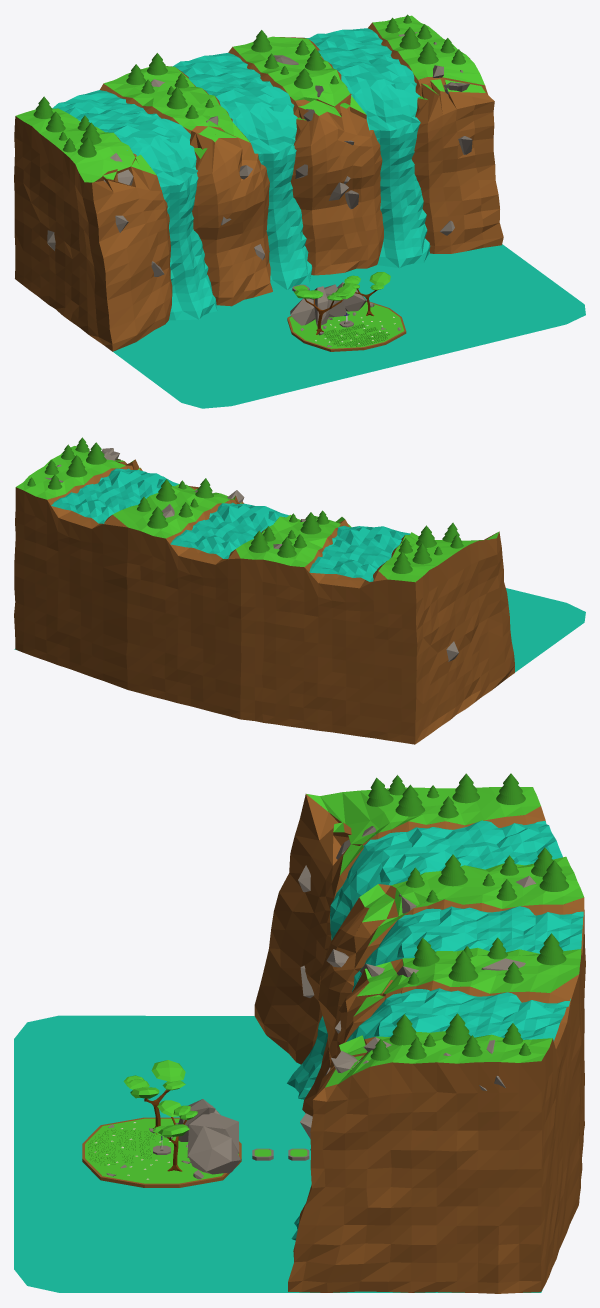
File: waterfall.glb
3 renders of one model, top to bottom at view 1: azimuth 30°, elevation 25°; view 2: azimuth 150°, elevation 25°; view 3: azimuth 270°, elevation 25°, orthographic. The views are drawn at different scales.
Parts seen in each view (by area): view 1: Cube.036, water.003, water.001, water, water.002, Cube.023, Cube.035; view 2: Cube.036, water.003, water.002, water, water.001; view 3: Cube.036, water.003, water.002, water, water.001, Cube.023, Icosphere.014, Cube.035, Icosphere.013, Cube.034.
Part boxes in pixels (left/top/right/bottom): Cube.036: left=14, top=15, right=503, bottom=351; water.003: left=113, top=244, right=585, bottom=408; water.001: left=304, top=28, right=430, bottom=267; water: left=172, top=53, right=312, bottom=289; water.002: left=52, top=90, right=217, bottom=320; Cube.023: left=287, top=301, right=406, bottom=351; Cube.035: left=294, top=285, right=356, bottom=300; Cube.036: left=14, top=446, right=514, bottom=744; water.003: left=14, top=588, right=585, bottom=672; water.002: left=309, top=525, right=410, bottom=581; water: left=170, top=502, right=288, bottom=558; water.001: left=51, top=468, right=178, bottom=523; Cube.036: left=254, top=787, right=585, bottom=1293; water.003: left=14, top=1015, right=542, bottom=1292; water.002: left=287, top=820, right=562, bottom=1099; water: left=310, top=906, right=583, bottom=1150; water.001: left=291, top=988, right=570, bottom=1240; Cube.023: left=82, top=1117, right=241, bottom=1187; Icosphere.014: left=188, top=1126, right=240, bottom=1174; Cube.035: left=123, top=1060, right=185, bottom=1098; Icosphere.013: left=187, top=1112, right=239, bottom=1157; Cube.034: left=153, top=1100, right=197, bottom=1137.
Size of the model in its own units: 193 by 90.11 by 165.
